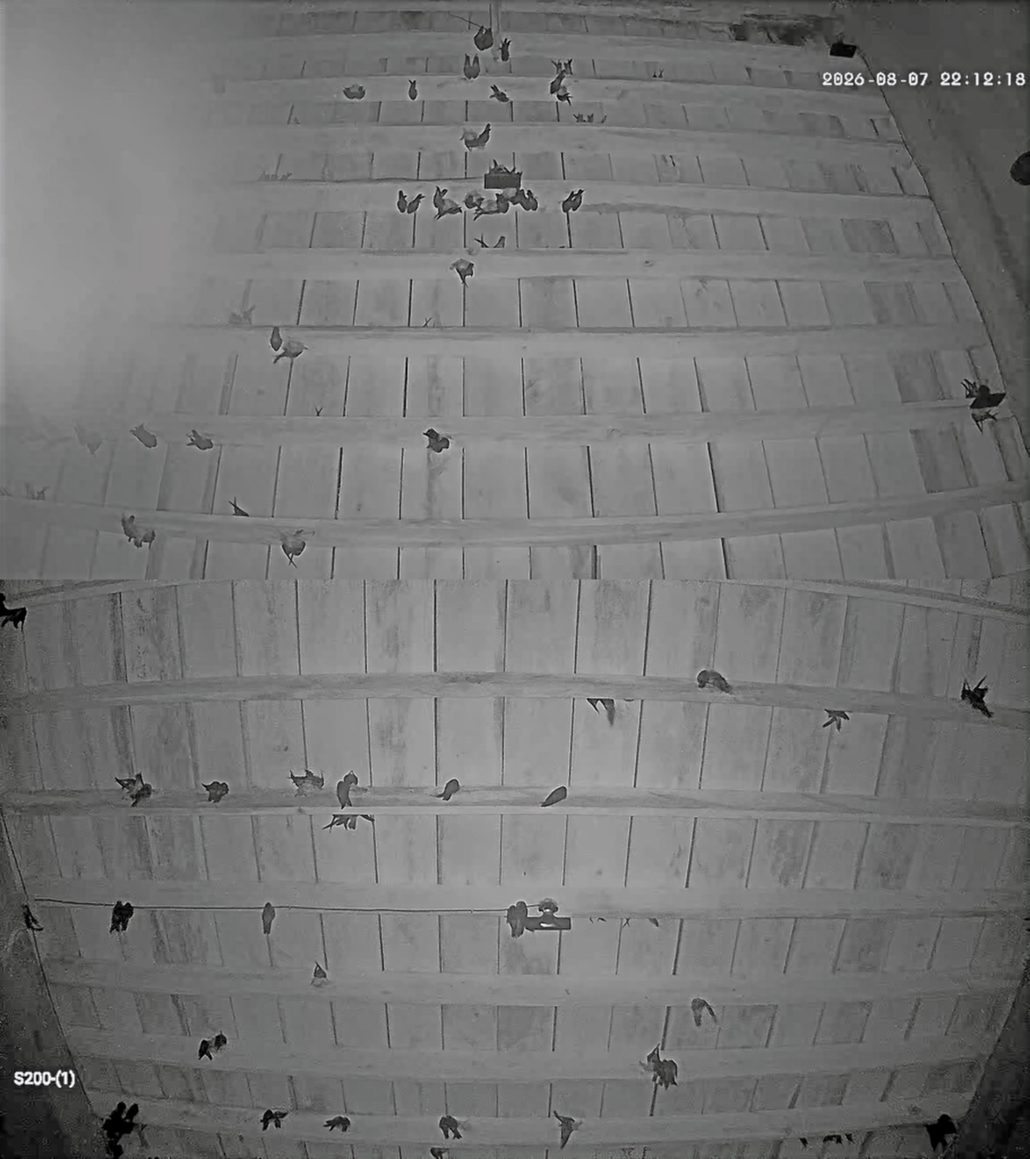swallow bird: (962, 380, 1005, 430), (960, 679, 993, 718), (121, 514, 155, 548), (553, 1111, 580, 1149), (281, 530, 306, 567), (74, 423, 102, 455), (273, 338, 307, 364), (697, 669, 731, 693), (336, 771, 358, 808), (690, 997, 717, 1027), (289, 768, 324, 791), (506, 901, 528, 937), (109, 901, 134, 932), (587, 698, 615, 725), (463, 123, 491, 150), (654, 1059, 678, 1089), (130, 423, 157, 449), (116, 772, 144, 797), (423, 428, 450, 453), (450, 259, 474, 287), (0, 607, 27, 630), (821, 709, 849, 731), (202, 781, 229, 803), (438, 1115, 462, 1139), (22, 904, 43, 931), (130, 782, 152, 807), (541, 786, 567, 807), (262, 1109, 288, 1130), (561, 189, 583, 213), (188, 429, 213, 450), (229, 305, 254, 326), (473, 26, 493, 51), (323, 814, 356, 829), (439, 778, 460, 801), (262, 902, 276, 936), (549, 69, 566, 95), (463, 55, 480, 80), (324, 1116, 350, 1132), (25, 483, 48, 501), (490, 83, 510, 103), (463, 190, 484, 209), (311, 962, 327, 986), (645, 1045, 661, 1069), (229, 498, 249, 517), (471, 230, 490, 250), (432, 186, 447, 211), (406, 193, 423, 214), (343, 84, 365, 100), (198, 1038, 213, 1060), (270, 326, 283, 351), (211, 1032, 227, 1052), (554, 85, 570, 104), (525, 190, 539, 211), (518, 190, 532, 210), (499, 38, 510, 62), (587, 915, 611, 926), (496, 196, 510, 213), (430, 1146, 448, 1159), (397, 190, 407, 211), (408, 80, 418, 100), (313, 404, 327, 417), (512, 190, 522, 207), (493, 236, 507, 248), (648, 916, 660, 929), (422, 317, 436, 328), (620, 916, 631, 930), (823, 1132, 837, 1142), (0, 484, 10, 497), (574, 113, 585, 122), (586, 112, 595, 123), (652, 70, 663, 79), (835, 1134, 843, 1146), (845, 1133, 854, 1143), (800, 1137, 807, 1148), (600, 115, 607, 125)
